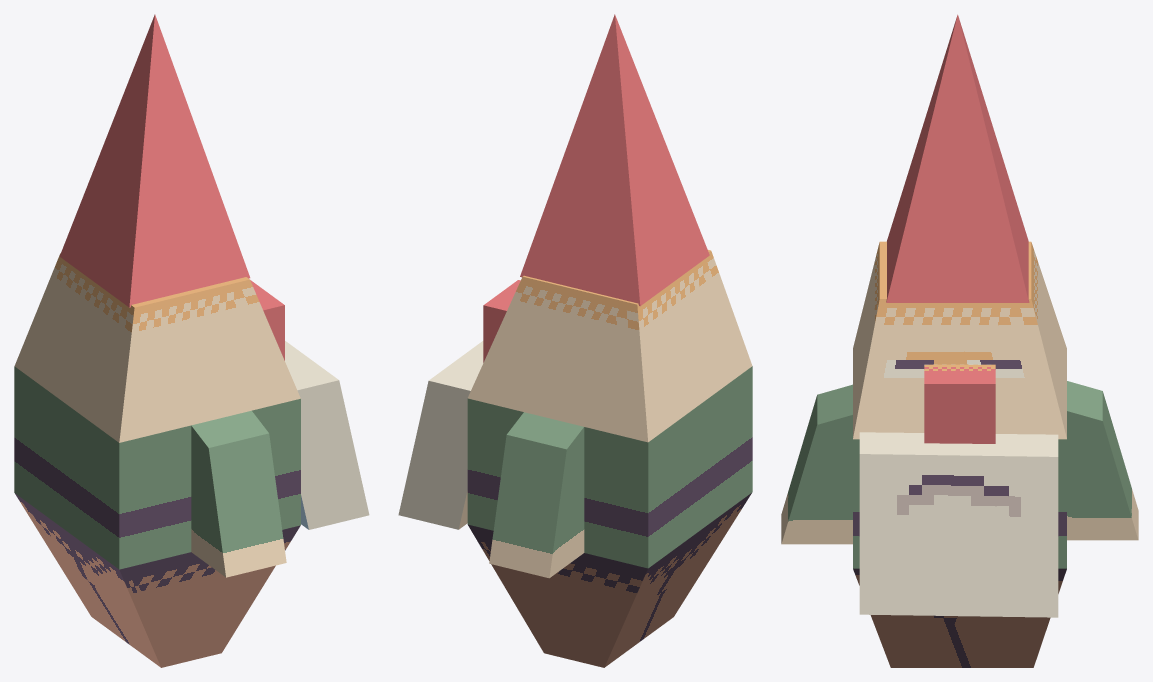
File: Gnome.gltf
3 views of the same model, side by side, from view 1: azimuth 30°, elevation 25°; view 2: azimuth 150°, elevation 25°; view 3: azimuth 270°, elevation 25° (orthographic). The views are drawn at different scales.
Bounding box in the file's own units: 1.05 × 2.46 × 1.25.
Materials: 1 (1 with a texture image).
